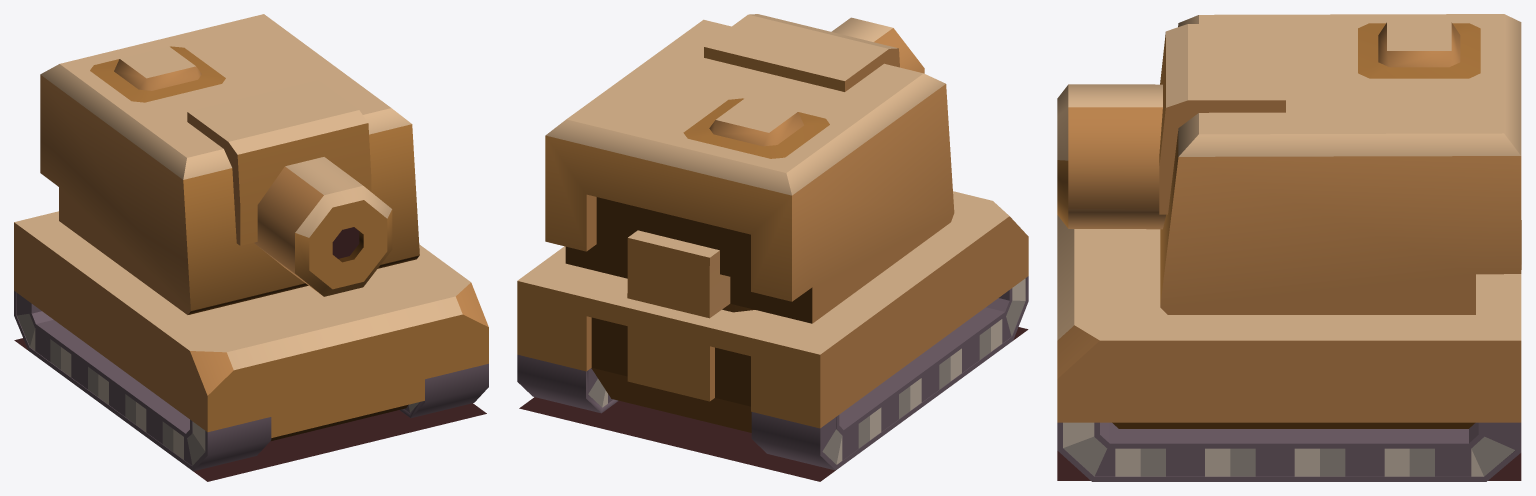
Rendered from MediumTankMesh.BrownDesert.glb.
3 views of the same model, side by side, from view 1: azimuth 30°, elevation 25°; view 2: azimuth 150°, elevation 25°; view 3: azimuth 270°, elevation 25° (orthographic). The views are drawn at different scales.
Visible parts, largest first — view 1: MediumTankMesh.BrownDesert; view 2: MediumTankMesh.BrownDesert; view 3: MediumTankMesh.BrownDesert.
Part boxes in pixels (<box>): MediumTankMesh.BrownDesert: <box>14,14,488,481</box>; MediumTankMesh.BrownDesert: <box>517,14,1028,481</box>; MediumTankMesh.BrownDesert: <box>1057,14,1521,481</box>.
Size of the model in its own units: 1.72 by 1.66 by 2.05.
1 material, 1 textured.
